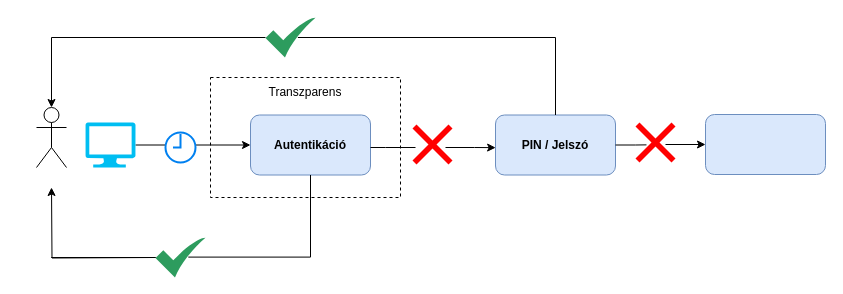
Image size: 843x294. Some labels were removed from this diagram. The centre of each missing label's shape, as x and y in pixels:
"Felhasználó" belongs at pixel 51 137.
"Munkamenet zárolása" belongs at pixel 765 144.
